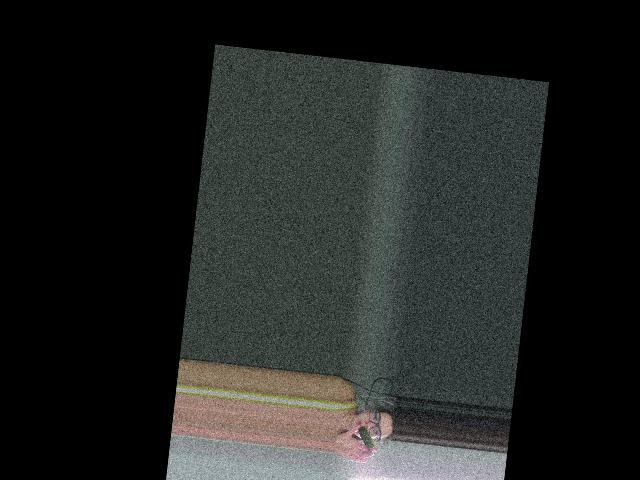cucumber: (356, 425, 377, 449)
